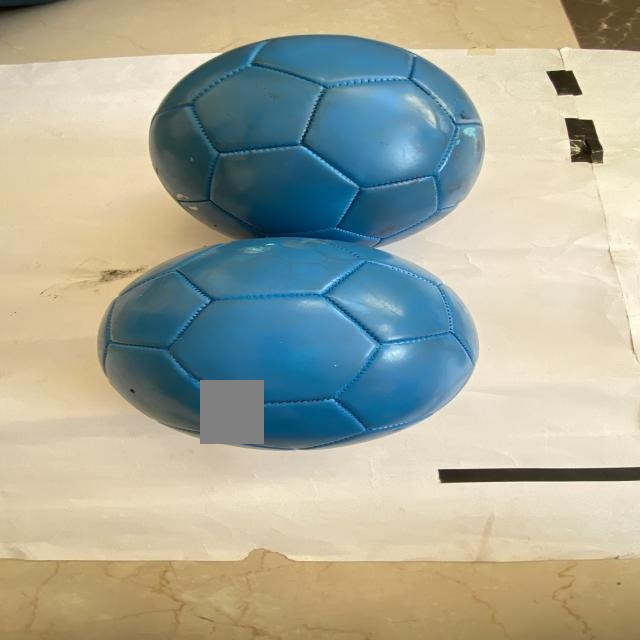blue_ball: (113, 238, 474, 447), (153, 37, 492, 234)
